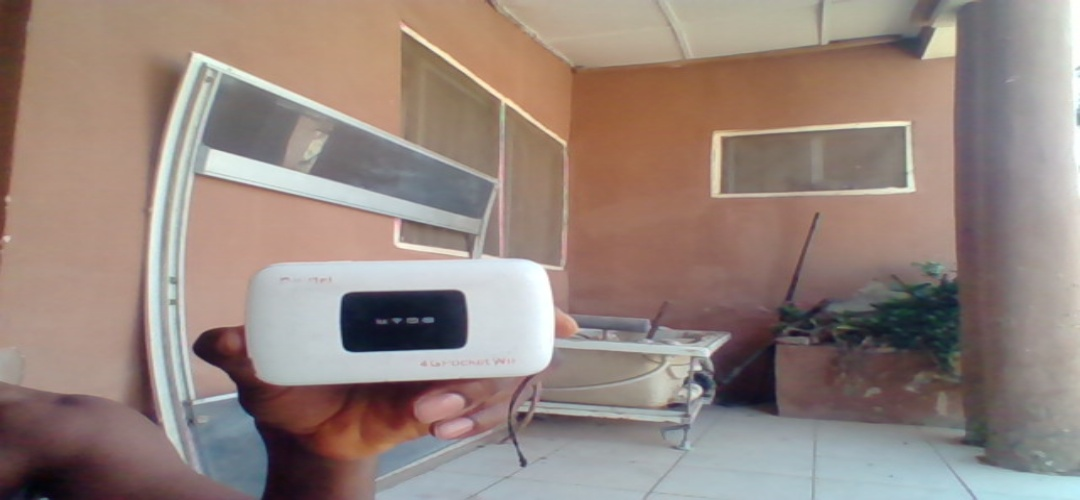mifi: (239, 254, 559, 388)
